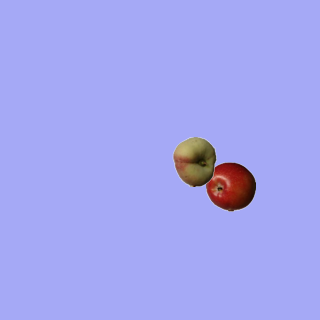Apple Braeburn: (205, 161, 255, 211)
Peach Flat: (169, 136, 219, 186)
